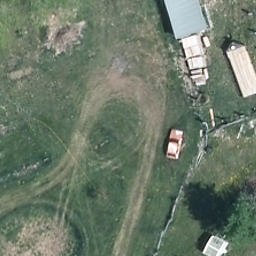car: (163, 128, 184, 160)
